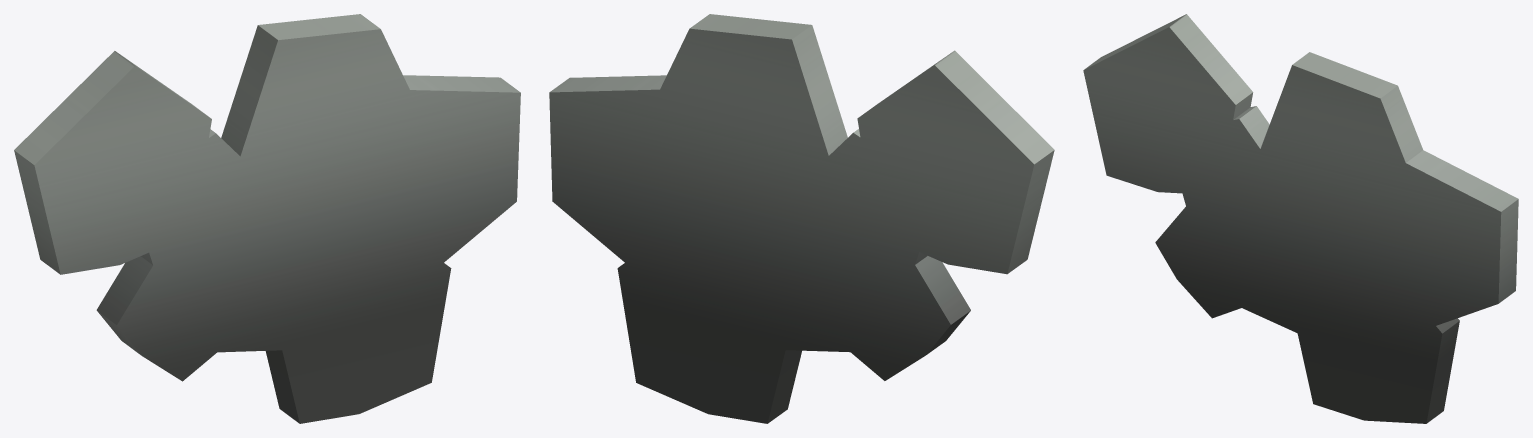
The model's file is cloud3.fbx.
3 views of the same model, side by side, from view 1: azimuth 30°, elevation 25°; view 2: azimuth 150°, elevation 25°; view 3: azimuth 330°, elevation 25° (orthographic). The views are drawn at different scales.
Parts seen in each view (by area): view 1: cloudTransform3; view 2: cloudTransform3; view 3: cloudTransform3.
Part boxes in pixels (<box>): cloudTransform3: <box>14,14,520,423</box>; cloudTransform3: <box>549,14,1054,423</box>; cloudTransform3: <box>1083,14,1518,423</box>.
Size of the model in its own units: 4.4 by 3.5 by 0.3425.
